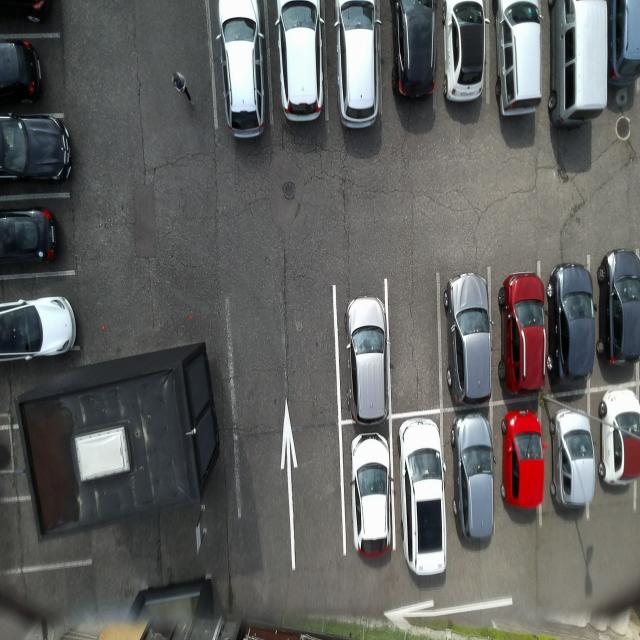car: (397, 416, 448, 582), (215, 1, 270, 146), (330, 1, 385, 137), (445, 269, 495, 414), (344, 428, 396, 567), (276, 1, 328, 137), (341, 293, 389, 429), (499, 269, 547, 400), (452, 415, 496, 547), (548, 265, 596, 383), (598, 247, 640, 372), (442, 1, 489, 109), (551, 409, 598, 513), (502, 409, 549, 511), (599, 389, 640, 489)
free_space: (384, 270, 446, 421)
